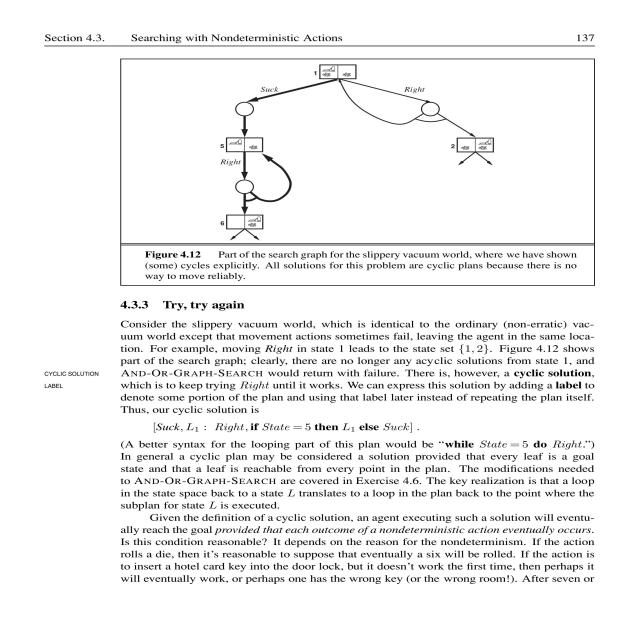diagram: (117, 55, 598, 283)
